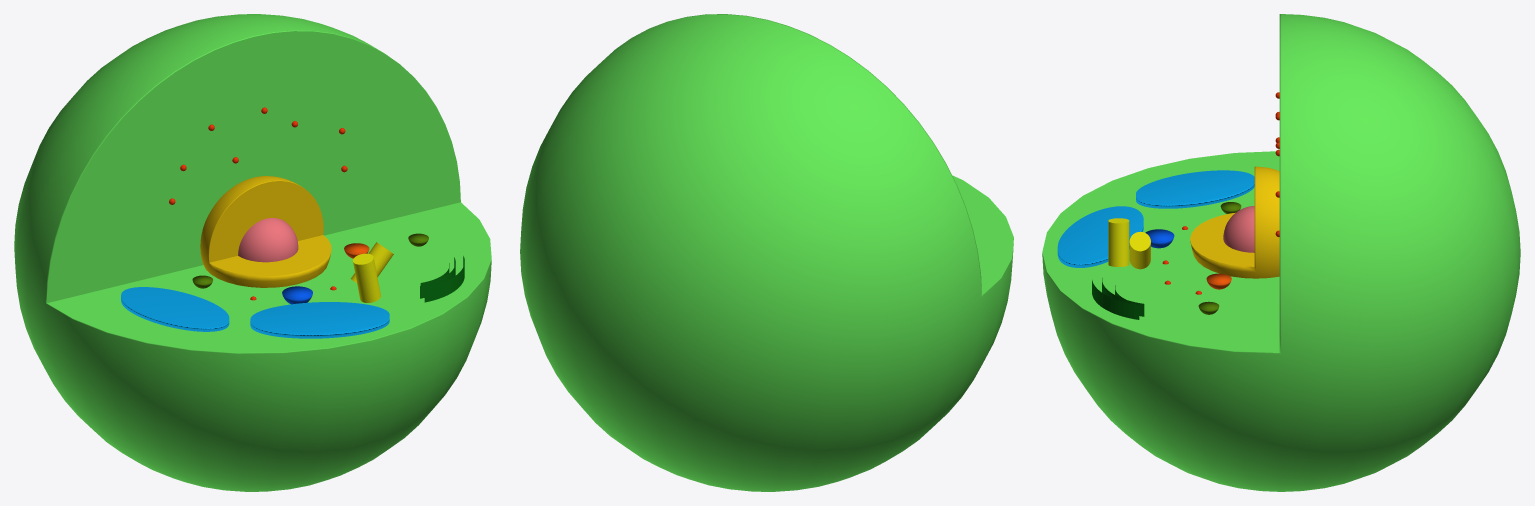
3 views of the same model, side by side, from view 1: azimuth 30°, elevation 25°; view 2: azimuth 150°, elevation 25°; view 3: azimuth 270°, elevation 25° (orthographic). The views are drawn at different scales.
Visible parts, largest first — view 1: Sphere, Sphere.001, Cylinder, Cylinder.001, Sphere.002, Cylinder.006, Cylinder.004; view 2: Sphere; view 3: Sphere, Sphere.001, Cylinder.001, Cylinder, Sphere.002, Cylinder.006, Cylinder.004, Cylinder.005.
Boxes of the visible parts, box(x1,y1,x2,y2) form: Sphere: box(14, 14, 491, 491); Sphere.001: box(200, 176, 331, 287); Cylinder: box(250, 302, 389, 338); Cylinder.001: box(121, 287, 229, 331); Sphere.002: box(238, 218, 298, 262); Cylinder.006: box(353, 253, 380, 302); Cylinder.004: box(424, 256, 464, 302); Sphere: box(520, 14, 1013, 491); Sphere: box(1042, 14, 1520, 491); Sphere.001: box(1190, 166, 1279, 278); Cylinder.001: box(1136, 170, 1254, 208); Cylinder: box(1057, 206, 1143, 267); Sphere.002: box(1223, 206, 1254, 252); Cylinder.006: box(1108, 218, 1129, 266); Cylinder.004: box(1092, 280, 1139, 319); Cylinder.005: box(1129, 231, 1150, 269).
Size of the model in its own units: 7.68 by 7.68 by 7.68.
